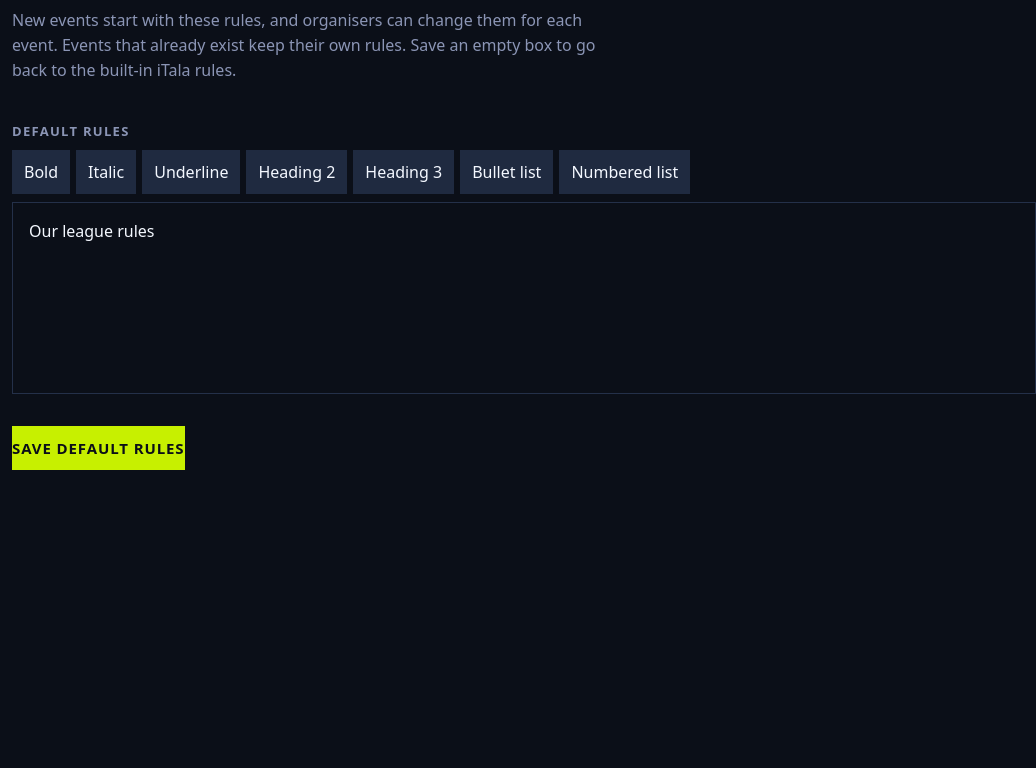
Test case: Default rules (S-02) › keeps the edit unsaved when the save is refused or the server cannot be reached
Click the field named "Default rules" at (524, 298), box [12,202,1035,394]
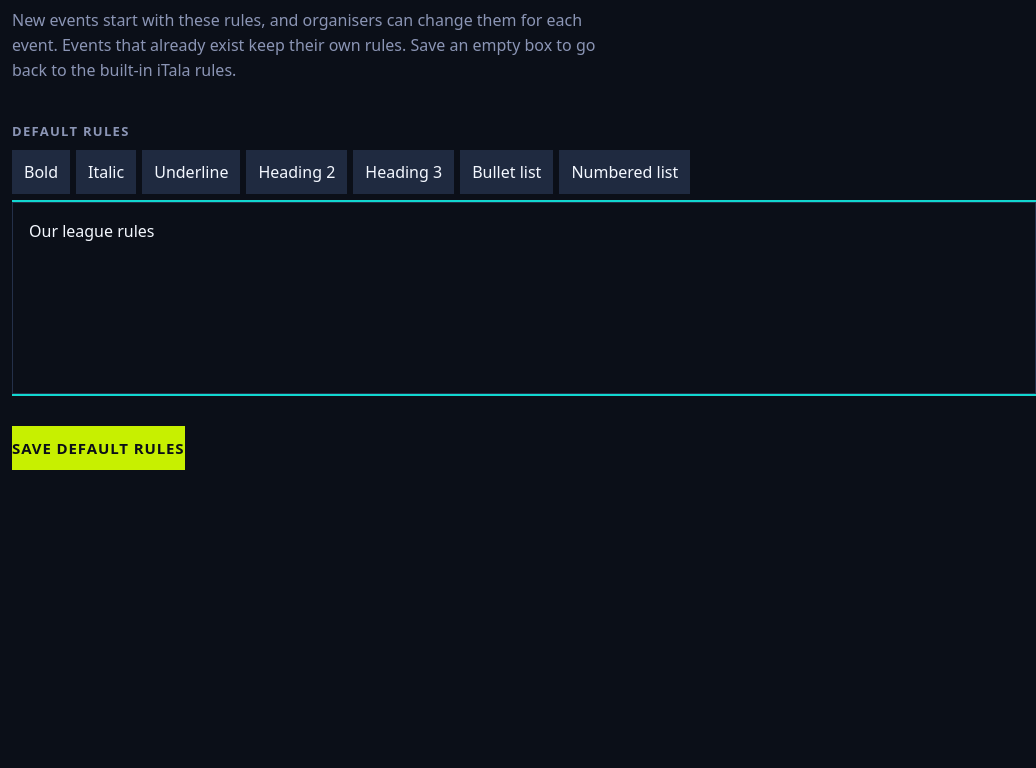
Type keys "{Control>}a{/Control}"
Click the button "Italic" at (106, 172), box [76,150,136,194]
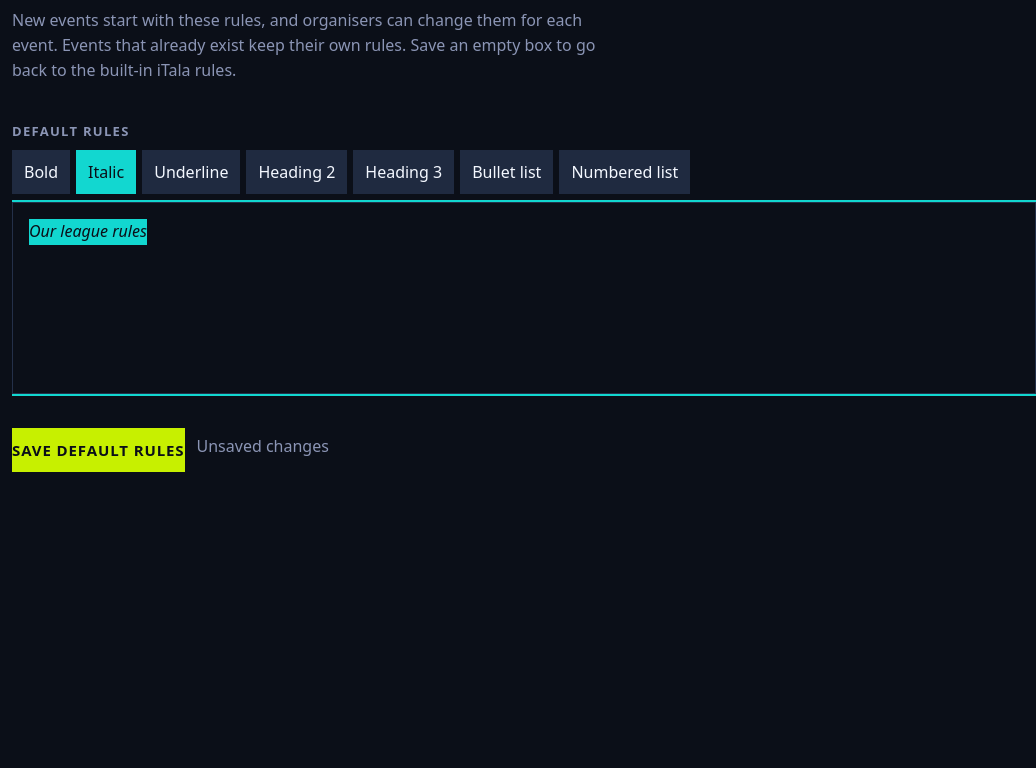
Click the button "Save default rules" at (98, 450), box [12,428,184,472]
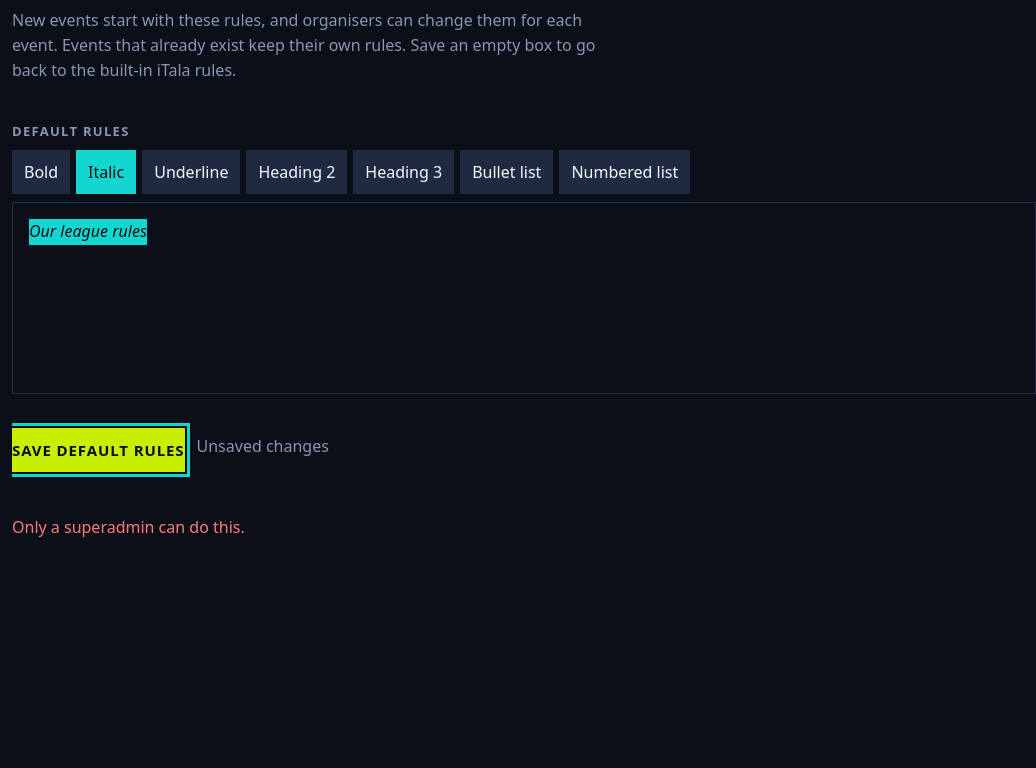
Expected: the text "Unsaved changes" is shown, [196,434,329,459]
Expected: the text "Only a superadmin can do this." is shown, [12,516,245,538]
Click the button "Save default rules" at (98, 450), box [12,428,184,472]
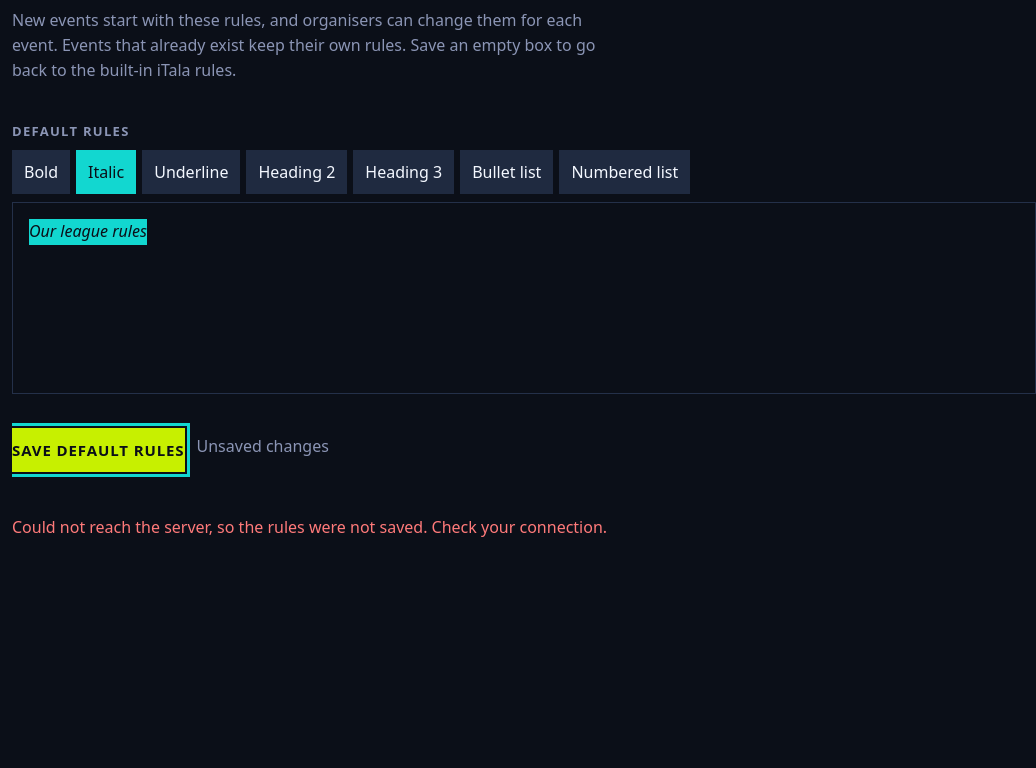
Expected: the text "Unsaved changes" is shown, [196,434,329,459]
Expected: the text "Could not reach the server, so the rules were not saved. Check your connection." is shown, [12,516,607,538]
